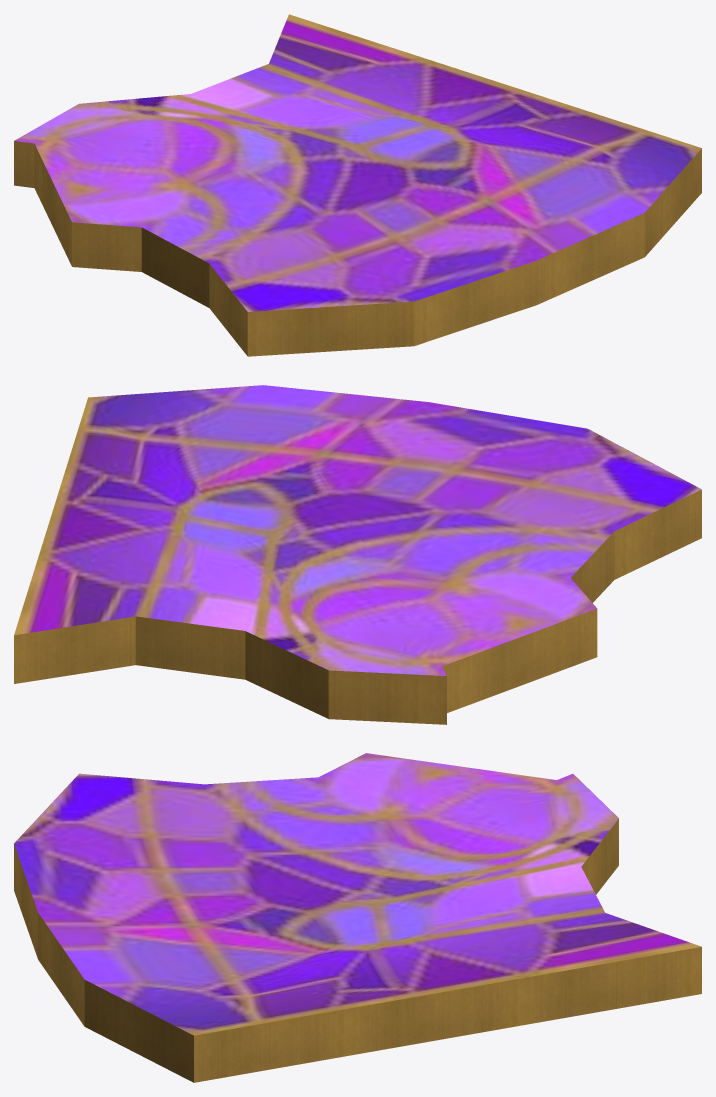
File: lb_chunk_6_2.glb
3 views of the same model, one above another, from view 1: azimuth 30°, elevation 25°; view 2: azimuth 150°, elevation 25°; view 3: azimuth 270°, elevation 25° (orthographic). The views are drawn at different scales.
Visible parts, largest first — view 1: lb_chunk_6_2; view 2: lb_chunk_6_2; view 3: lb_chunk_6_2.
Boxes of the visible parts, x1,y1,x2,y2 form: lb_chunk_6_2: (14, 14, 701, 356); lb_chunk_6_2: (14, 385, 701, 724); lb_chunk_6_2: (14, 753, 701, 1082).
Bounding box in the file's own units: 4.62 × 0.36 × 4.75.
2 materials, 2 textured.
